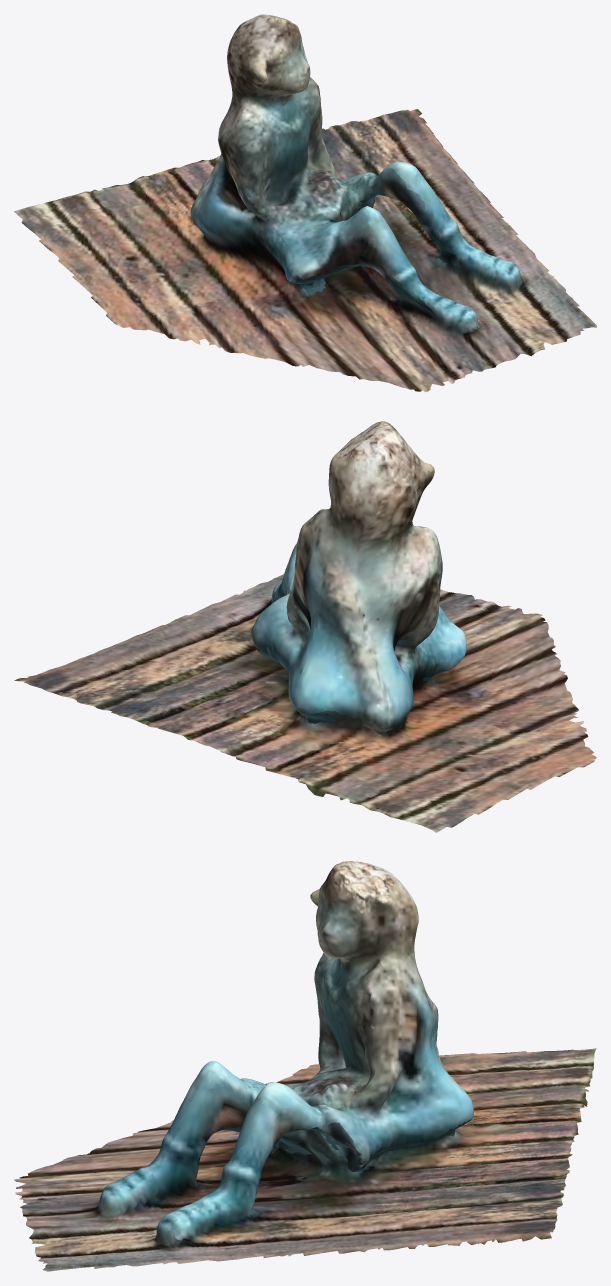
File: blauweElf.obj
3 views of the same model, one above another, from view 1: azimuth 30°, elevation 25°; view 2: azimuth 150°, elevation 25°; view 3: azimuth 270°, elevation 25° (orthographic). The views are drawn at different scales.
Parts seen in each view (by area): view 1: blauweElf; view 2: blauweElf; view 3: blauweElf.
Boxes of the visible parts, <box> form: blauweElf: <box>14,14,596,392</box>; blauweElf: <box>14,421,596,832</box>; blauweElf: <box>14,861,596,1271</box>.
Bounding box in the file's own units: 22.74 × 14.66 × 24.7.
Materials: 1 (1 with a texture image).
